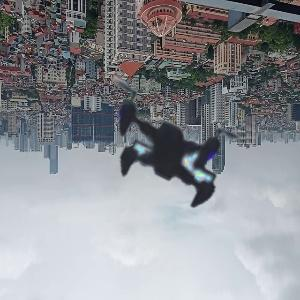drone: (48, 29, 294, 275)
